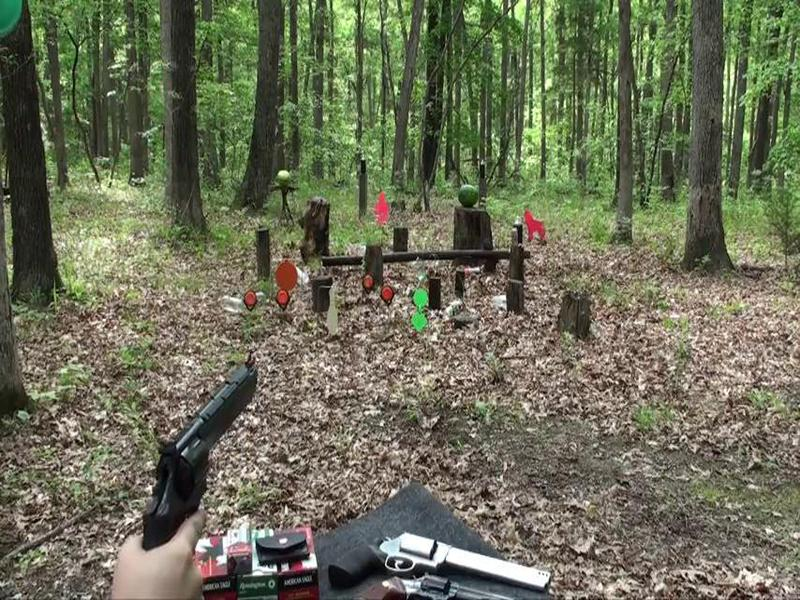Revolver: (137, 348, 267, 572)
